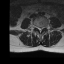CCS_normal: (39, 25, 41, 34)
LFS_normal: (43, 25, 45, 30)
LLS_normal: (41, 25, 43, 31)
RFS_normal: (35, 24, 37, 30)
RLS_normal: (37, 25, 39, 30)
